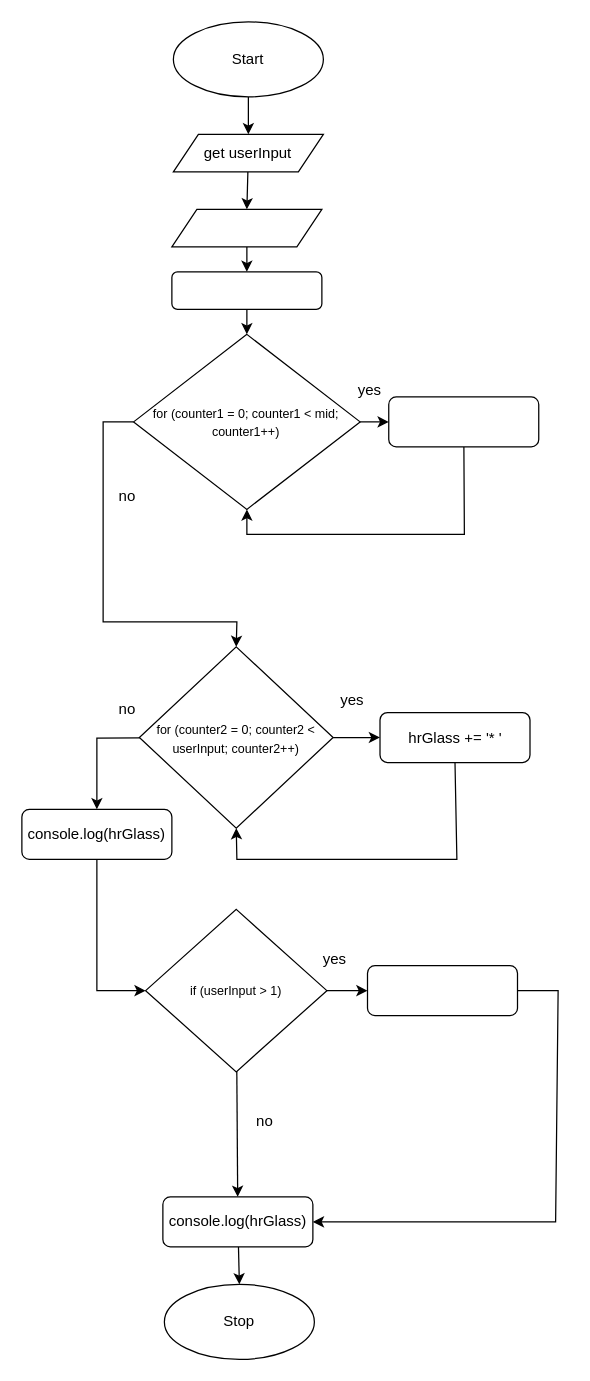
Some shapes in this 590 by 1381 pixel diagram are drawn without their labels. The centre of each missing label's shape, as x and y in pixels:
get mid: [246,227]
hourglass(userInput - 1, mid + 1): [442,990]
hrGlass += ' ': [463,421]
let hrGlass = ' ': [246,290]
